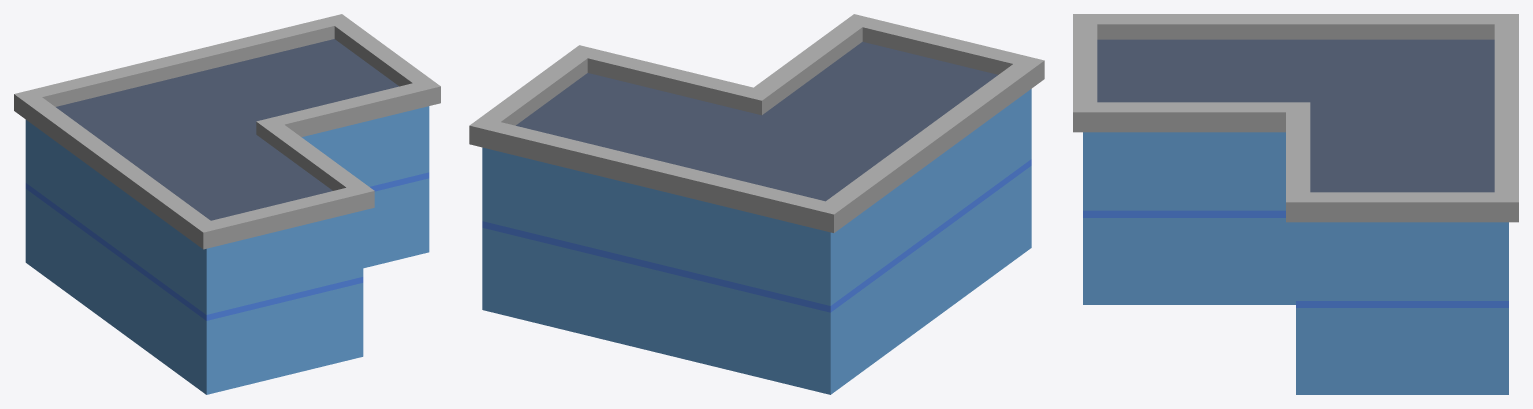
File: building_L_6_r.glb
The picture shows the model from 3 angles, left to right: view 1: azimuth 30°, elevation 25°; view 2: azimuth 150°, elevation 25°; view 3: azimuth 270°, elevation 25°; orthographic projection. The views are drawn at different scales.
Parts seen in each view (by area): view 1: Cube.002; view 2: Cube.002; view 3: Cube.002.
Boxes of the visible parts, x1,y1,x2,y2 form: Cube.002: [14, 14, 440, 394]; Cube.002: [469, 14, 1044, 394]; Cube.002: [1073, 14, 1518, 394].
Size of the model in its own units: 3.43 by 1.67 by 3.43.
